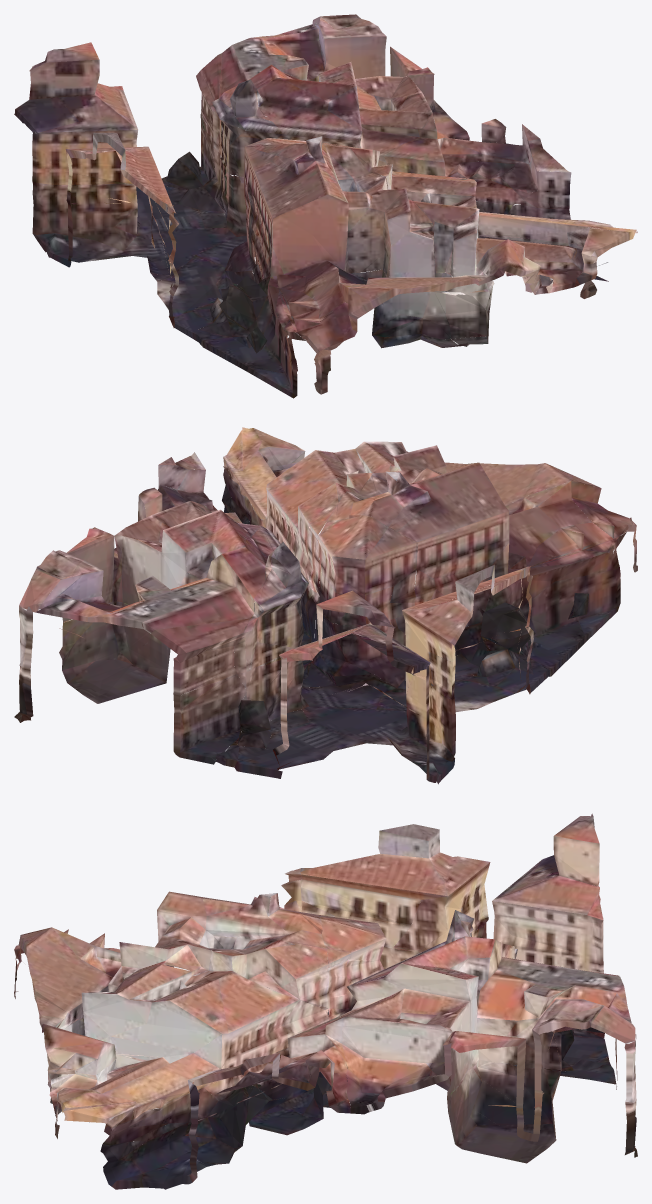
3 views of the same model, one above another, from view 1: azimuth 30°, elevation 25°; view 2: azimuth 150°, elevation 25°; view 3: azimuth 270°, elevation 25° (orthographic). The views are drawn at different scales.
Parts seen in each view (by area): view 1: Mesh_0; view 2: Mesh_0; view 3: Mesh_0.
Part boxes in pixels (bbox=[...]): Mesh_0: bbox=[14, 14, 637, 398]; Mesh_0: bbox=[14, 427, 637, 784]; Mesh_0: bbox=[14, 813, 637, 1189].
Size of the model in its own units: 66.57 by 29.01 by 82.66.
Materials: 2 (2 with a texture image).
